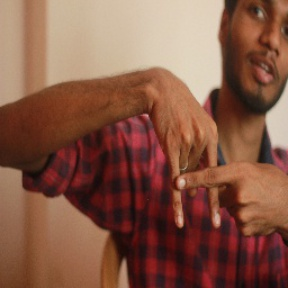H: (146, 121, 249, 237)
